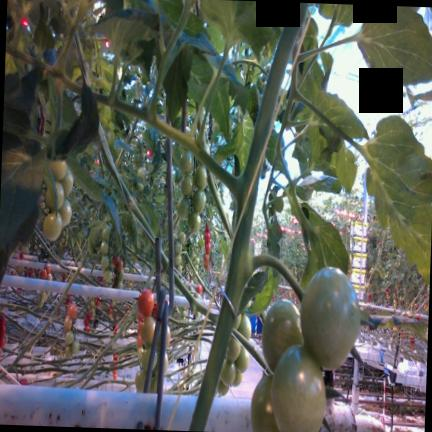6kp_peduncle: (223, 216, 304, 312)
6kp_petiole: (199, 144, 265, 242)
MainStem: (189, 3, 310, 432), (6, 249, 89, 372), (98, 126, 156, 248), (64, 301, 138, 389), (231, 328, 273, 374), (207, 170, 234, 240), (175, 271, 208, 316), (74, 30, 90, 87)
tomato: (300, 267, 360, 369), (271, 345, 325, 432), (262, 299, 303, 371), (251, 375, 280, 432), (43, 211, 62, 241), (45, 182, 64, 210), (140, 315, 155, 346), (138, 289, 154, 317), (220, 359, 236, 385), (141, 346, 157, 371), (226, 337, 241, 362), (59, 199, 72, 227), (235, 346, 249, 372), (153, 353, 168, 376), (49, 161, 67, 180), (238, 314, 251, 340), (61, 169, 73, 197), (194, 165, 207, 190), (177, 196, 190, 220), (192, 190, 206, 212), (181, 174, 193, 197), (180, 152, 193, 173), (158, 326, 170, 348), (135, 369, 146, 392), (188, 212, 200, 233), (217, 379, 229, 395), (232, 370, 242, 386), (149, 374, 157, 392), (68, 303, 77, 319), (64, 315, 72, 332), (65, 330, 74, 345), (233, 314, 241, 329), (102, 228, 110, 242), (101, 255, 109, 269), (71, 340, 79, 354), (65, 345, 73, 359), (174, 241, 182, 254), (137, 167, 145, 180), (101, 241, 108, 255), (178, 232, 186, 244), (174, 254, 181, 267), (112, 255, 119, 266), (117, 260, 123, 272), (40, 269, 47, 279), (45, 263, 51, 274), (137, 183, 144, 192), (205, 230, 210, 241), (205, 242, 210, 253), (196, 284, 202, 293), (204, 253, 209, 263), (37, 300, 43, 308), (46, 273, 52, 280), (195, 311, 200, 319), (177, 264, 182, 272), (204, 263, 209, 271), (195, 257, 200, 264), (174, 232, 177, 242), (195, 264, 199, 271)
